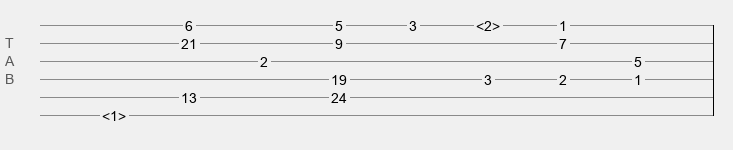1: (559, 18, 567, 28), (634, 72, 642, 82)
13: (181, 90, 197, 100)
19: (331, 72, 347, 82)
2: (260, 54, 268, 64), (559, 72, 567, 82)
21: (181, 36, 197, 46)
24: (331, 90, 347, 100)
3: (409, 18, 417, 28), (484, 72, 492, 82)
5: (335, 18, 343, 28), (634, 54, 642, 64)
6: (185, 18, 193, 28)
7: (559, 36, 567, 46)
9: (335, 36, 343, 46)
harmonic: (102, 108, 126, 118), (476, 18, 500, 28)
